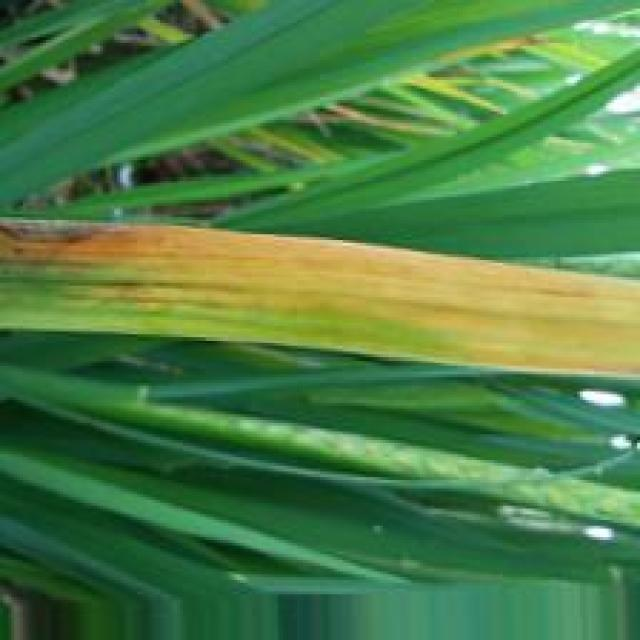Rice Tungro: (0, 217, 640, 377)
